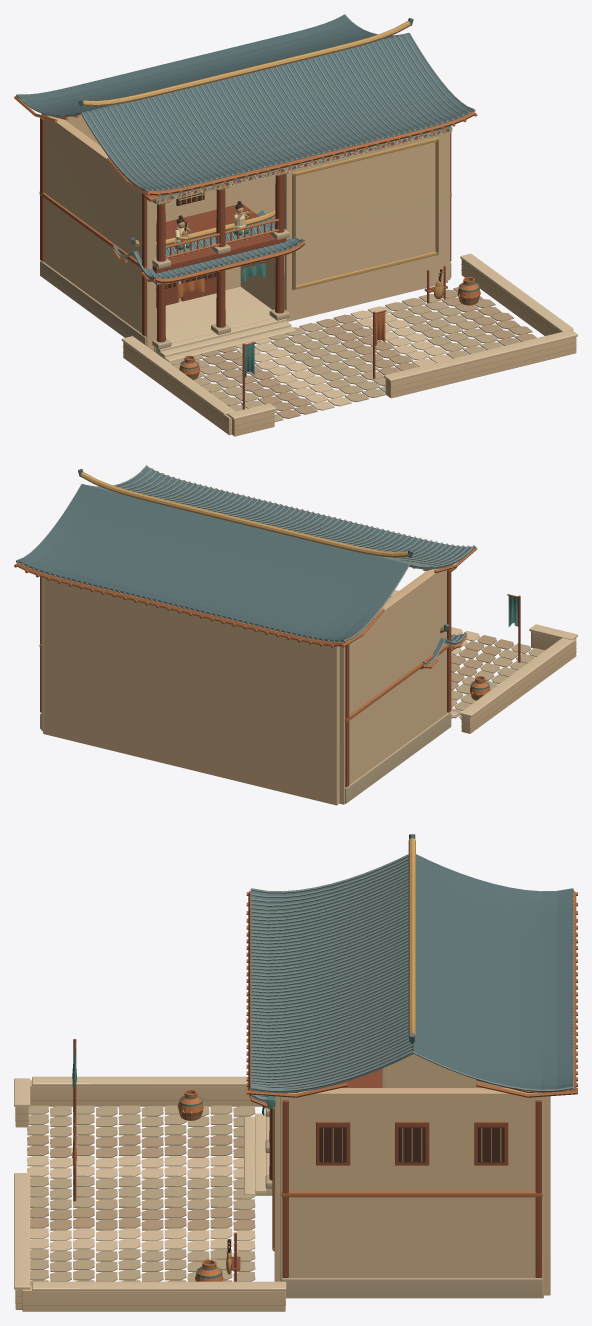
The model's file is music-pavilion.glb.
The picture shows the model from 3 angles, top to bottom: view 1: azimuth 30°, elevation 25°; view 2: azimuth 150°, elevation 25°; view 3: azimuth 270°, elevation 25°; orthographic projection. The views are drawn at different scales.
Parts seen in each view (by area): view 1: architecture--plaster, main-roof--tile, main-roof--tile-edge, court-paving--stone, court-paving--stone-shadow, porch--wood, porch--stone-light, architecture--stone-light, court-paving--stone-light, main-roof--wood-light, main-roof--ochre, mural-frame--stone (+15 smaller); view 2: architecture--plaster, main-roof--tile, main-roof--tile-edge, main-roof--wood-light, main-roof--ochre, court-paving--stone, mural-frame--stone, architecture--stone-light, mural-frame--wood, court-paving--stone-shadow, mural-frame--wood-light; view 3: architecture--plaster, main-roof--tile, main-roof--tile-edge, court-paving--stone, court-paving--stone-shadow, court-paving--stone-light, architecture--stone-light, mural-frame--stone, mural-frame--wood, mural-frame--dark, main-roof--wood-light, mural-frame--wood-light (+6 smaller).
Boxes of the visible parts, <box> form: architecture--plaster: <box>41,113,576,436</box>; main-roof--tile: <box>18,14,472,191</box>; main-roof--tile-edge: <box>16,14,475,191</box>; court-paving--stone: <box>164,294,502,421</box>; court-paving--stone-shadow: <box>201,287,536,418</box>; porch--wood: <box>152,174,286,342</box>; porch--stone-light: <box>154,286,295,361</box>; architecture--stone-light: <box>121,253,577,420</box>; court-paving--stone-light: <box>235,306,451,410</box>; main-roof--wood-light: <box>14,96,477,196</box>; main-roof--ochre: <box>83,21,410,106</box>; mural-frame--stone: <box>40,260,451,345</box>; architecture--plaster: <box>41,568,576,805</box>; main-roof--tile: <box>18,467,474,641</box>; main-roof--tile-edge: <box>16,465,475,642</box>; main-roof--wood-light: <box>14,467,477,647</box>; main-roof--ochre: <box>80,472,408,557</box>; court-paving--stone: <box>451,643,544,719</box>; mural-frame--stone: <box>40,711,451,803</box>; architecture--stone-light: <box>392,590,577,717</box>; mural-frame--wood: <box>40,569,451,787</box>; court-paving--stone-shadow: <box>451,635,513,690</box>; mural-frame--wood-light: <box>39,644,451,722</box>; architecture--plaster: <box>15,1054,550,1311</box>; main-roof--tile: <box>251,834,572,1093</box>; main-roof--tile-edge: <box>250,854,573,1091</box>; court-paving--stone: <box>27,1105,255,1281</box>; court-paving--stone-shadow: <box>27,1135,255,1285</box>; court-paving--stone-light: <box>27,1156,255,1251</box>; architecture--stone-light: <box>14,1076,286,1291</box>; mural-frame--stone: <box>281,1278,542,1297</box>; mural-frame--wood: <box>282,1100,541,1277</box>; mural-frame--dark: <box>319,1126,504,1162</box>; main-roof--wood-light: <box>246,891,577,1097</box>; mural-frame--wood-light: <box>272,1110,542,1247</box>.
Bounding box in the file's own units: 19.02 × 11.41 × 21.4.
18 materials, 1 textured.
